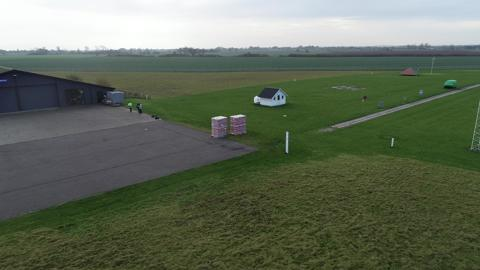RockwoolPallet: (230, 114, 246, 135)
